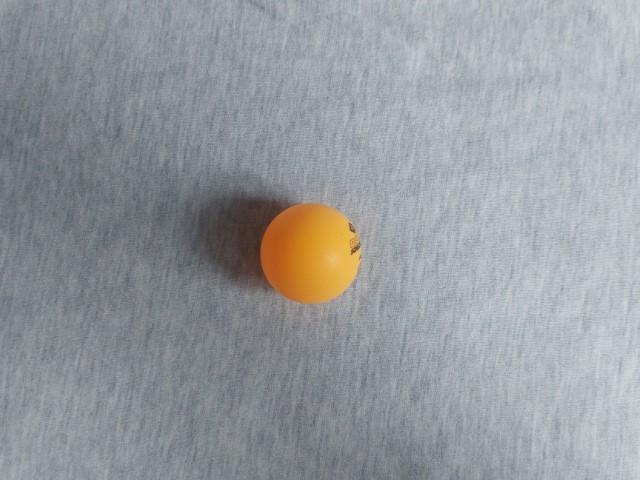oball: (271, 169, 387, 281)
